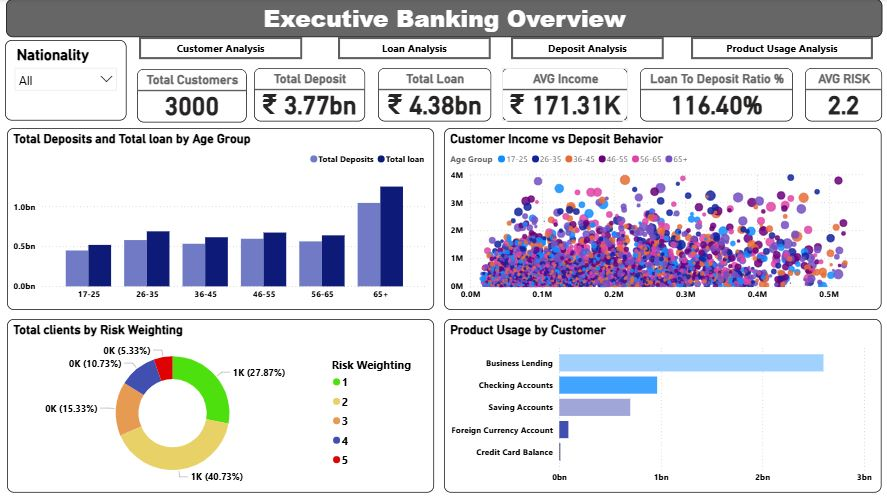

This screenshot's page, from the dashboard's own definition file:
{"tool":"powerbi","page":{"name":"Executive Banking Overview","canvas":[1280,720],"ordinal":0},"visuals":[{"type":"textbox","box":[10,0,280,280],"z":0},{"type":"textbox","title":"Executive Banking Overview","box":[8.4,0,1261.5,55.4],"z":1000},{"type":"card","title":"Total Customers","fields":{"Values":["Banking.Total clients"]},"box":[196.5,100.8,157.9,77.3],"z":2000,"group":"g1"},{"type":"clusteredColumnChart","fields":{"Y":["Banking.Total Deposits","Banking.Total loan"],"Category":["Banking.Age Groups"]},"box":[10.1,186.5,614.8,262],"z":2000},{"type":"card","title":"Total Deposit","fields":{"Values":["Banking.Total Deposits"]},"box":[366.2,99.1,159.6,77.3],"z":3000,"group":"g1"},{"type":"scatterChart","title":"Customer Income vs Deposit Behavior","fields":{"X":["Banking.Estimated Income"],"Y":["Banking.Bank Deposits Amt"],"Size":["All Measure.Bank Loan"],"Series":["Banking.Age Group"]},"box":[640,186.5,629.9,262],"z":3000},{"type":"card","title":"Total Loan","fields":{"Values":["Banking.Total loan"]},"box":[544.2,99.1,162.9,77.3],"z":4000,"group":"g1"},{"type":"donutChart","fields":{"Y":["Banking.Total clients"],"Category":["Banking.Risk Weighting"]},"box":[10.1,460.3,614.8,250.3],"z":4000},{"type":"card","title":"AVG Income","fields":{"Values":["Banking.AVG Income"]},"box":[722.3,99.1,181.4,77.3],"z":5000,"group":"g1"},{"type":"clusteredBarChart","title":" Product Usage by Customer","fields":{"Category":["Product Usage Table.Product"],"Y":["Sum(Product Usage Table.Amount)"]},"box":[640,460.3,629.9,250.3],"z":5000},{"type":"group","id":"g1","title":"Group 1","box":[7.1,59.3,1262.8,118.8],"z":6000},{"type":"card","title":"AVG  RISK","fields":{"Values":["Banking.AVG risk Weighting"]},"box":[1159,99.1,110.9,77.3],"z":6000,"group":"g1"},{"type":"actionButton","box":[199.9,55.4,235.2,31.9],"z":7000},{"type":"slicer","fields":{"Values":["Banking.Nationality"]},"box":[7.1,59.3,174.7,115.9],"z":7000,"group":"g1"},{"type":"actionButton","box":[735.7,55.4,220.1,31.9],"z":8000},{"type":"actionButton","box":[487.1,55.4,220.1,31.9],"z":9000},{"type":"actionButton","box":[994.4,55.4,262,31.9],"z":10000},{"type":"card","title":"Loan To Deposit Ratio %","fields":{"Values":["All Measure.Loan to Deposit Ratio"]},"box":[922.2,99.1,220.1,77.3],"z":12000,"group":"g1"}]}

Visuals, with their boxes in screenshot pixels (x1, y1, x2, y2), scaled from the page's 1280x720 canvas onto the 887x499 screenshot:
textbox: Rect(7, 0, 201, 194)
"Executive Banking Overview" textbox: Rect(6, 0, 880, 38)
"Total Customers" card: Rect(136, 70, 246, 123)
clusteredColumnChart - Banking.Total Deposits x Banking.Total loan: Rect(7, 129, 433, 311)
"Total Deposit" card: Rect(254, 69, 364, 122)
"Customer Income vs Deposit Behavior" scatterChart: Rect(444, 129, 880, 311)
"Total Loan" card: Rect(377, 69, 490, 122)
donutChart - Banking.Total clients x Banking.Risk Weighting: Rect(7, 319, 433, 492)
"AVG Income" card: Rect(501, 69, 626, 122)
" Product Usage by Customer" clusteredBarChart: Rect(444, 319, 880, 492)
"Group 1" group: Rect(5, 41, 880, 123)
"AVG  RISK" card: Rect(803, 69, 880, 122)
actionButton: Rect(139, 38, 302, 61)
slicer - Banking.Nationality: Rect(5, 41, 126, 121)
actionButton: Rect(510, 38, 662, 61)
actionButton: Rect(338, 38, 490, 61)
actionButton: Rect(689, 38, 871, 61)
"Loan To Deposit Ratio %" card: Rect(639, 69, 792, 122)
